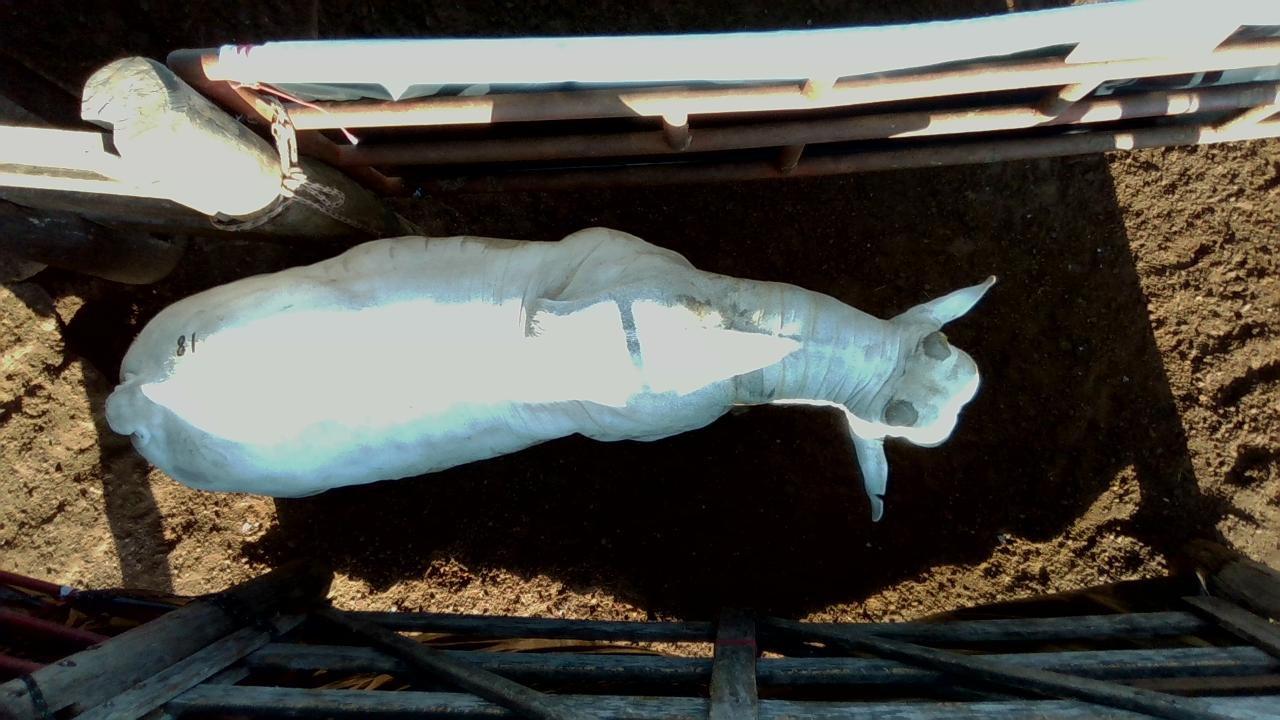cattle: (104, 225, 998, 522)
